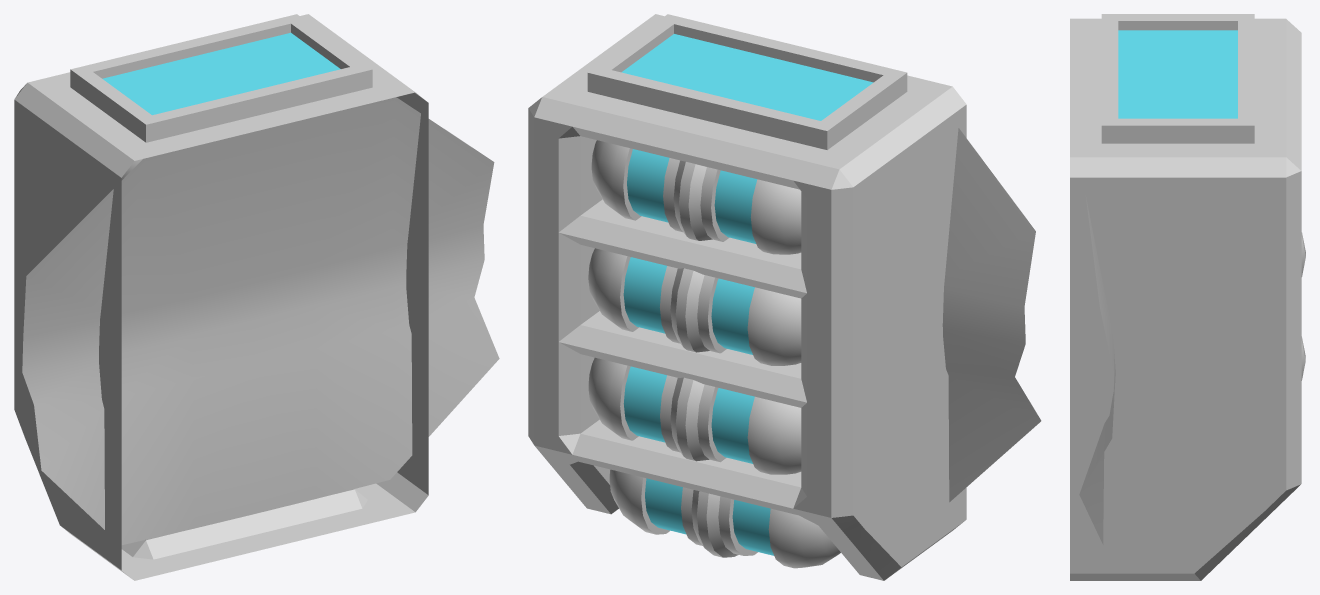
File: Mod_BackPlate_Idol1.fbx
3 views of the same model, side by side, from view 1: azimuth 30°, elevation 25°; view 2: azimuth 150°, elevation 25°; view 3: azimuth 270°, elevation 25° (orthographic). The views are drawn at different scales.
Parts seen in each view (by area): view 1: Mod_BackPlate_Idol1; view 2: Mod_BackPlate_Idol1; view 3: Mod_BackPlate_Idol1.
Boxes of the visible parts, box(x1,y1,x2,y2) form: Mod_BackPlate_Idol1: box(14, 14, 499, 580); Mod_BackPlate_Idol1: box(528, 14, 1041, 580); Mod_BackPlate_Idol1: box(1070, 14, 1305, 580).
Size of the model in its own units: 326 by 296 by 141.
